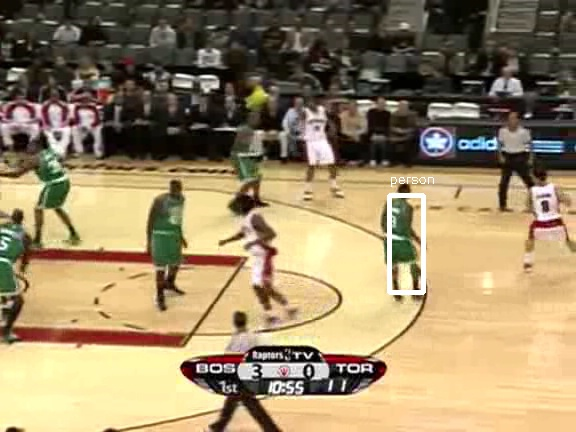person: (377, 196, 411, 277), (376, 196, 410, 277), (378, 196, 412, 277), (377, 195, 411, 276), (377, 197, 411, 278)
target_negative: (111, 86, 382, 420), (510, 5, 558, 387), (431, 11, 470, 279), (67, 269, 275, 281), (429, 66, 438, 274), (242, 335, 316, 348)
